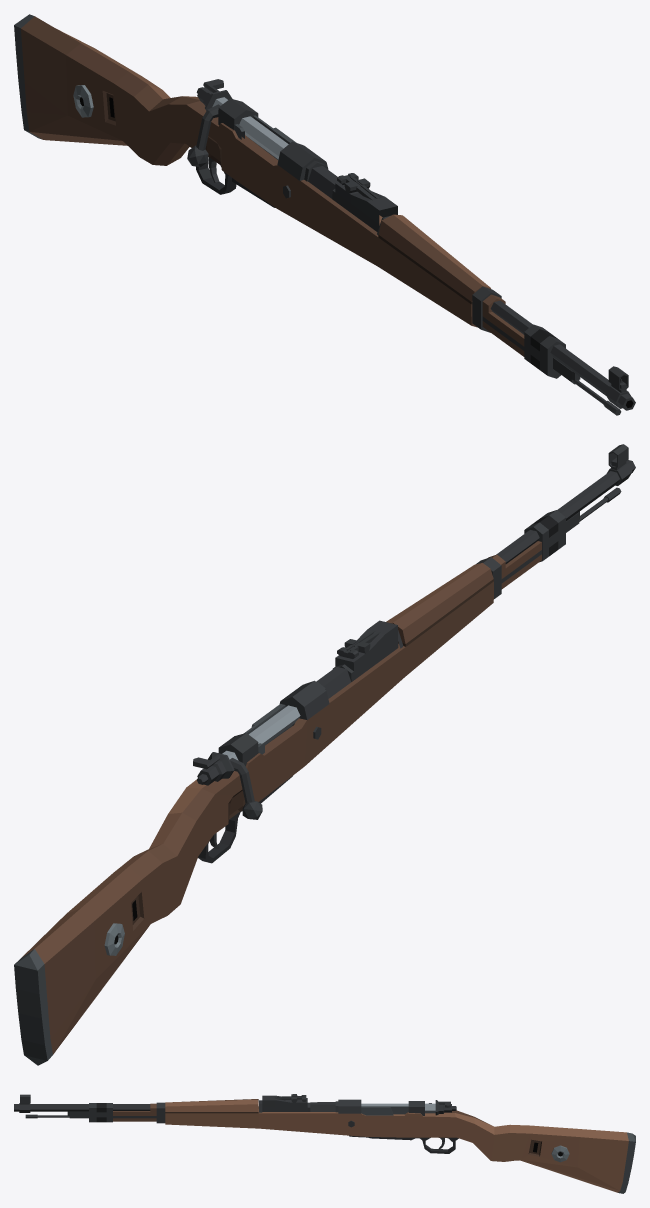
Rendered from bolt_action.glb.
The picture shows the model from 3 angles, top to bottom: view 1: azimuth 30°, elevation 25°; view 2: azimuth 150°, elevation 25°; view 3: azimuth 270°, elevation 25°; orthographic projection. The views are drawn at different scales.
Parts seen in each view (by area): view 1: SM_Wep_German_Rifle_01, SM_Wep_American_Rifle_01_Bolt; view 2: SM_Wep_German_Rifle_01, SM_Wep_American_Rifle_01_Bolt; view 3: SM_Wep_German_Rifle_01, SM_Wep_American_Rifle_01_Bolt.
Boxes of the visible parts, left/top/right/bottom form: SM_Wep_German_Rifle_01: left=14, top=14, right=635, bottom=415; SM_Wep_American_Rifle_01_Bolt: left=187, top=79, right=288, bottom=167; SM_Wep_German_Rifle_01: left=14, top=444, right=635, bottom=1065; SM_Wep_American_Rifle_01_Bolt: left=193, top=705, right=300, bottom=819; SM_Wep_German_Rifle_01: left=14, top=1094, right=635, bottom=1193; SM_Wep_American_Rifle_01_Bolt: left=361, top=1100, right=456, bottom=1115.
Bounding box in the file's own units: 0.0587 × 0.1943 × 1.1.
1 material, 1 textured.
